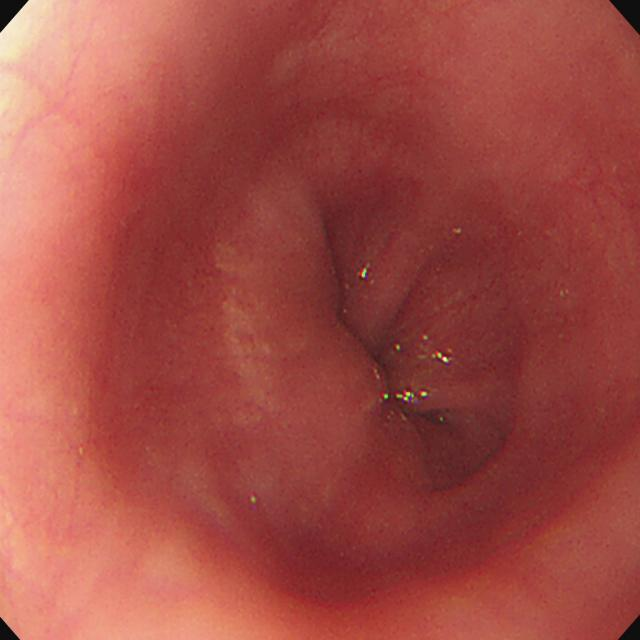I: (254, 159, 518, 502)
U: (382, 389, 431, 403), (436, 351, 452, 366), (358, 268, 369, 278)
